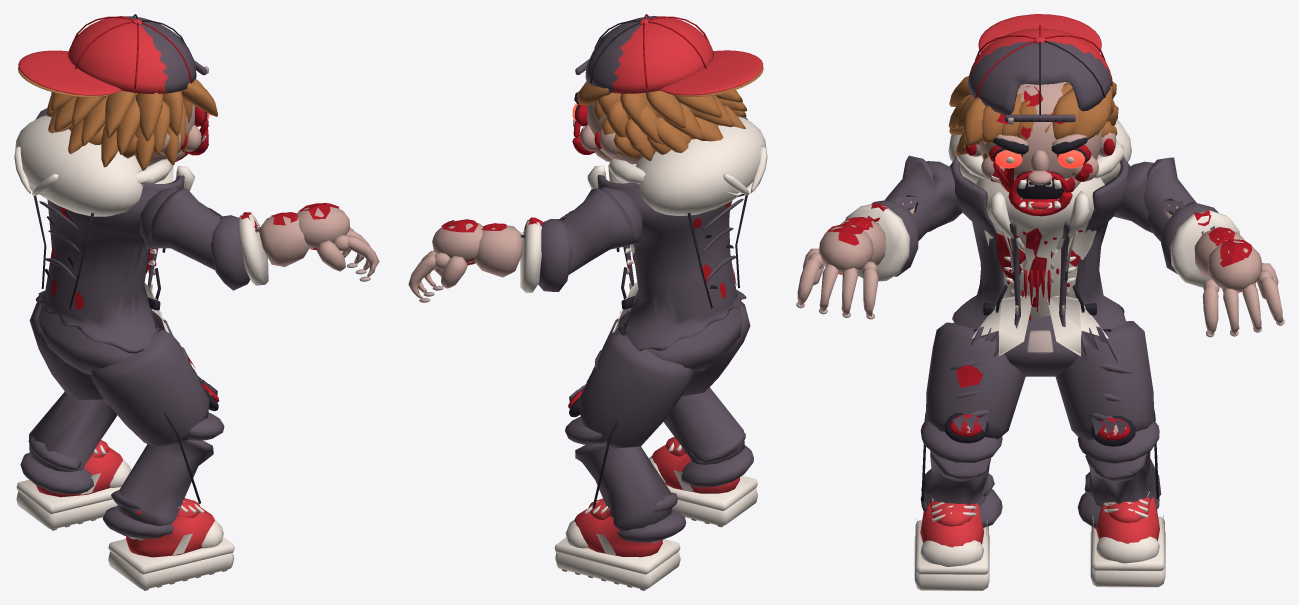
3 renders of one model, left to right at view 1: azimuth 30°, elevation 25°; view 2: azimuth 150°, elevation 25°; view 3: azimuth 270°, elevation 25°, orthographic. The views are drawn at different scales.
Parts seen in each view (by area): view 1: torso__pal_asphalt, torso__pal_picketWhite, head__pal_woodWarm, legR__pal_asphalt, head__pal_survivorRed_regions, shinR__pal_asphalt, shinL__pal_asphalt, footR__pal_picketWhite, armR__pal_asphalt, footL__pal_picketWhite, handR__pal_infectedSkin, hip__pal_asphalt (+10 smaller); view 2: torso__pal_asphalt, torso__pal_picketWhite, legL__pal_asphalt, head__pal_woodWarm, shinL__pal_asphalt, head__pal_survivorRed_regions, shinR__pal_asphalt, armL__pal_asphalt, footL__pal_picketWhite, handL__pal_infectedSkin, footR__pal_picketWhite, head__pal_survivorRed (+10 smaller); view 3: torso__pal_picketWhite, torso__pal_asphalt, legL__pal_asphalt, head__pal_survivorRed_regions, legR__pal_asphalt, head__pal_woodWarm, shinR__pal_asphalt, shinL__pal_asphalt, handL__pal_infectedSkin, handR__pal_infectedSkin, head__pal_infectedSkin, footL__pal_picketWhite (+20 smaller).
Boxes of the visible parts, x1=… form: torso__pal_asphalt: x1=35, y1=175, x2=184, y2=353; torso__pal_picketWhite: x1=14, y1=115, x2=194, y2=333; head__pal_woodWarm: x1=18, y1=67, x2=217, y2=170; legR__pal_asphalt: x1=90, y1=328, x2=217, y2=447; head__pal_survivorRed_regions: x1=67, y1=16, x2=196, y2=93; shinR__pal_asphalt: x1=102, y1=412, x2=224, y2=538; shinL__pal_asphalt: x1=20, y1=391, x2=117, y2=494; footR__pal_picketWhite: x1=108, y1=500, x2=234, y2=589; armR__pal_asphalt: x1=140, y1=187, x2=224, y2=269; footL__pal_picketWhite: x1=16, y1=445, x2=131, y2=529; handR__pal_infectedSkin: x1=297, y1=206, x2=379, y2=276; hip__pal_asphalt: x1=38, y1=304, x2=158, y2=374; torso__pal_asphalt: x1=597, y1=175, x2=746, y2=352; torso__pal_picketWhite: x1=587, y1=116, x2=767, y2=332; legL__pal_asphalt: x1=569, y1=331, x2=695, y2=448; head__pal_woodWarm: x1=577, y1=67, x2=763, y2=160; shinL__pal_asphalt: x1=565, y1=416, x2=686, y2=542; head__pal_survivorRed_regions: x1=585, y1=16, x2=713, y2=93; shinR__pal_asphalt: x1=663, y1=387, x2=753, y2=487; armL__pal_asphalt: x1=558, y1=187, x2=642, y2=274; footL__pal_picketWhite: x1=554, y1=501, x2=680, y2=589; handL__pal_infectedSkin: x1=408, y1=220, x2=483, y2=298; footR__pal_picketWhite: x1=649, y1=442, x2=757, y2=525; head__pal_survivorRed: x1=639, y1=19, x2=762, y2=95; torso__pal_picketWhite: x1=948, y1=119, x2=1131, y2=356; torso__pal_asphalt: x1=949, y1=156, x2=1130, y2=362; legL__pal_asphalt: x1=1055, y1=321, x2=1154, y2=439; head__pal_survivorRed_regions: x1=967, y1=28, x2=1112, y2=114; legR__pal_asphalt: x1=926, y1=322, x2=1025, y2=439; head__pal_woodWarm: x1=948, y1=76, x2=1118, y2=160; shinR__pal_asphalt: x1=920, y1=420, x2=1002, y2=527; shinL__pal_asphalt: x1=1077, y1=421, x2=1161, y2=528; handL__pal_infectedSkin: x1=1202, y1=240, x2=1282, y2=335; handR__pal_infectedSkin: x1=797, y1=225, x2=878, y2=316; head__pal_infectedSkin: x1=971, y1=82, x2=1116, y2=184; footL__pal_picketWhite: x1=1090, y1=491, x2=1165, y2=587.
Size of what is drawn, in the model's own units: 0.6935 by 1.38 by 1.14.
